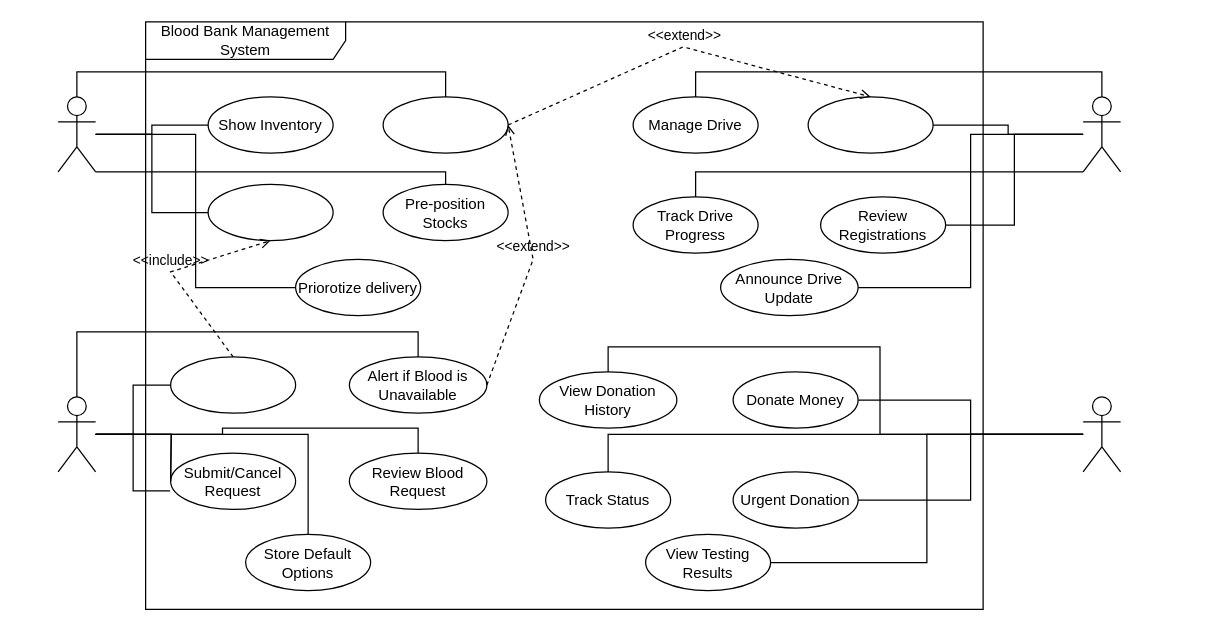
The diagram is 1208 pixels wide and 631 high, and some of its shapes have lost their labels. The shapes that lost their labels are listed below. From the top down, each one's box as (x1, y1, x2, y2) in pixels, then its label:
(57, 96, 96, 172): Blood Bank Staff
(382, 96, 508, 153): Notify Drives
(807, 96, 933, 153): Create Drive
(1082, 96, 1121, 172): Donation Drive Organizer
(207, 183, 333, 241): Send Blood
(169, 356, 296, 413): Request Blood
(57, 396, 96, 472): Hospital Staff
(1082, 396, 1121, 472): Donor
